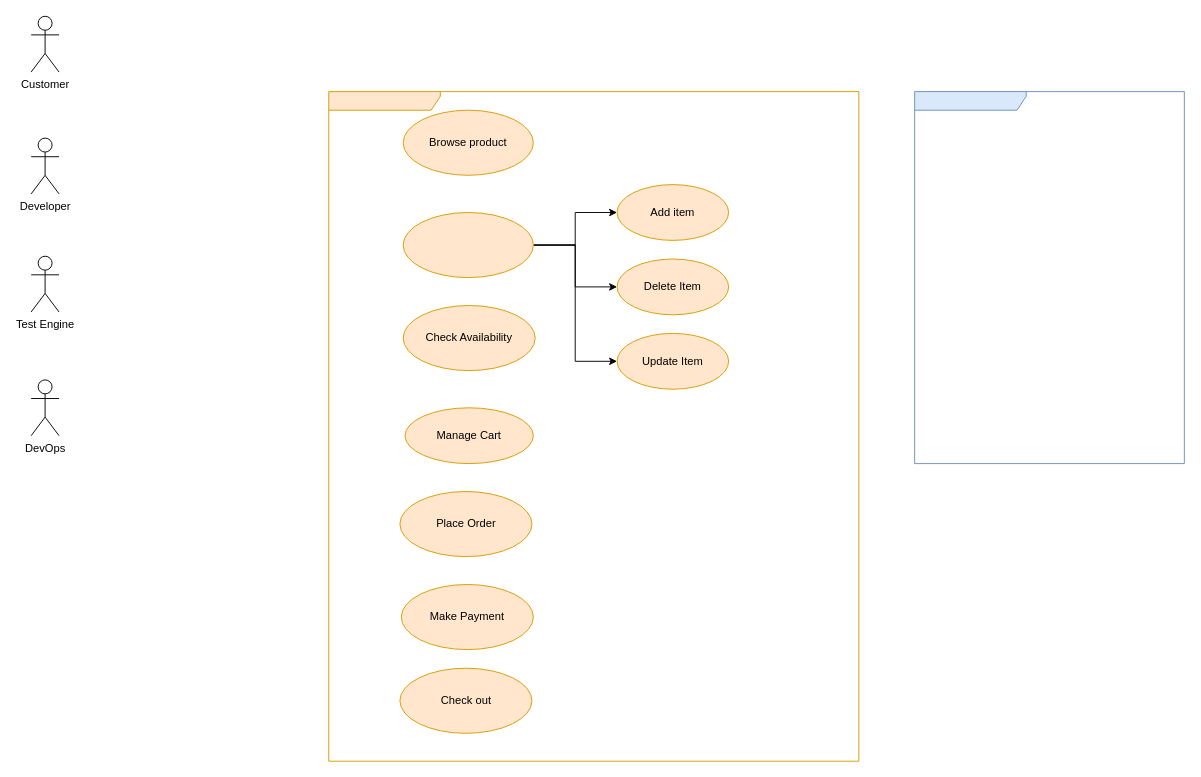
This 1201x777 diagram has some shape labels left out. Each missing label, with the box of its shape:
Commerce Engine: (914, 91, 1184, 464)
Store Front: (328, 91, 859, 761)
View Product: (402, 212, 533, 278)
